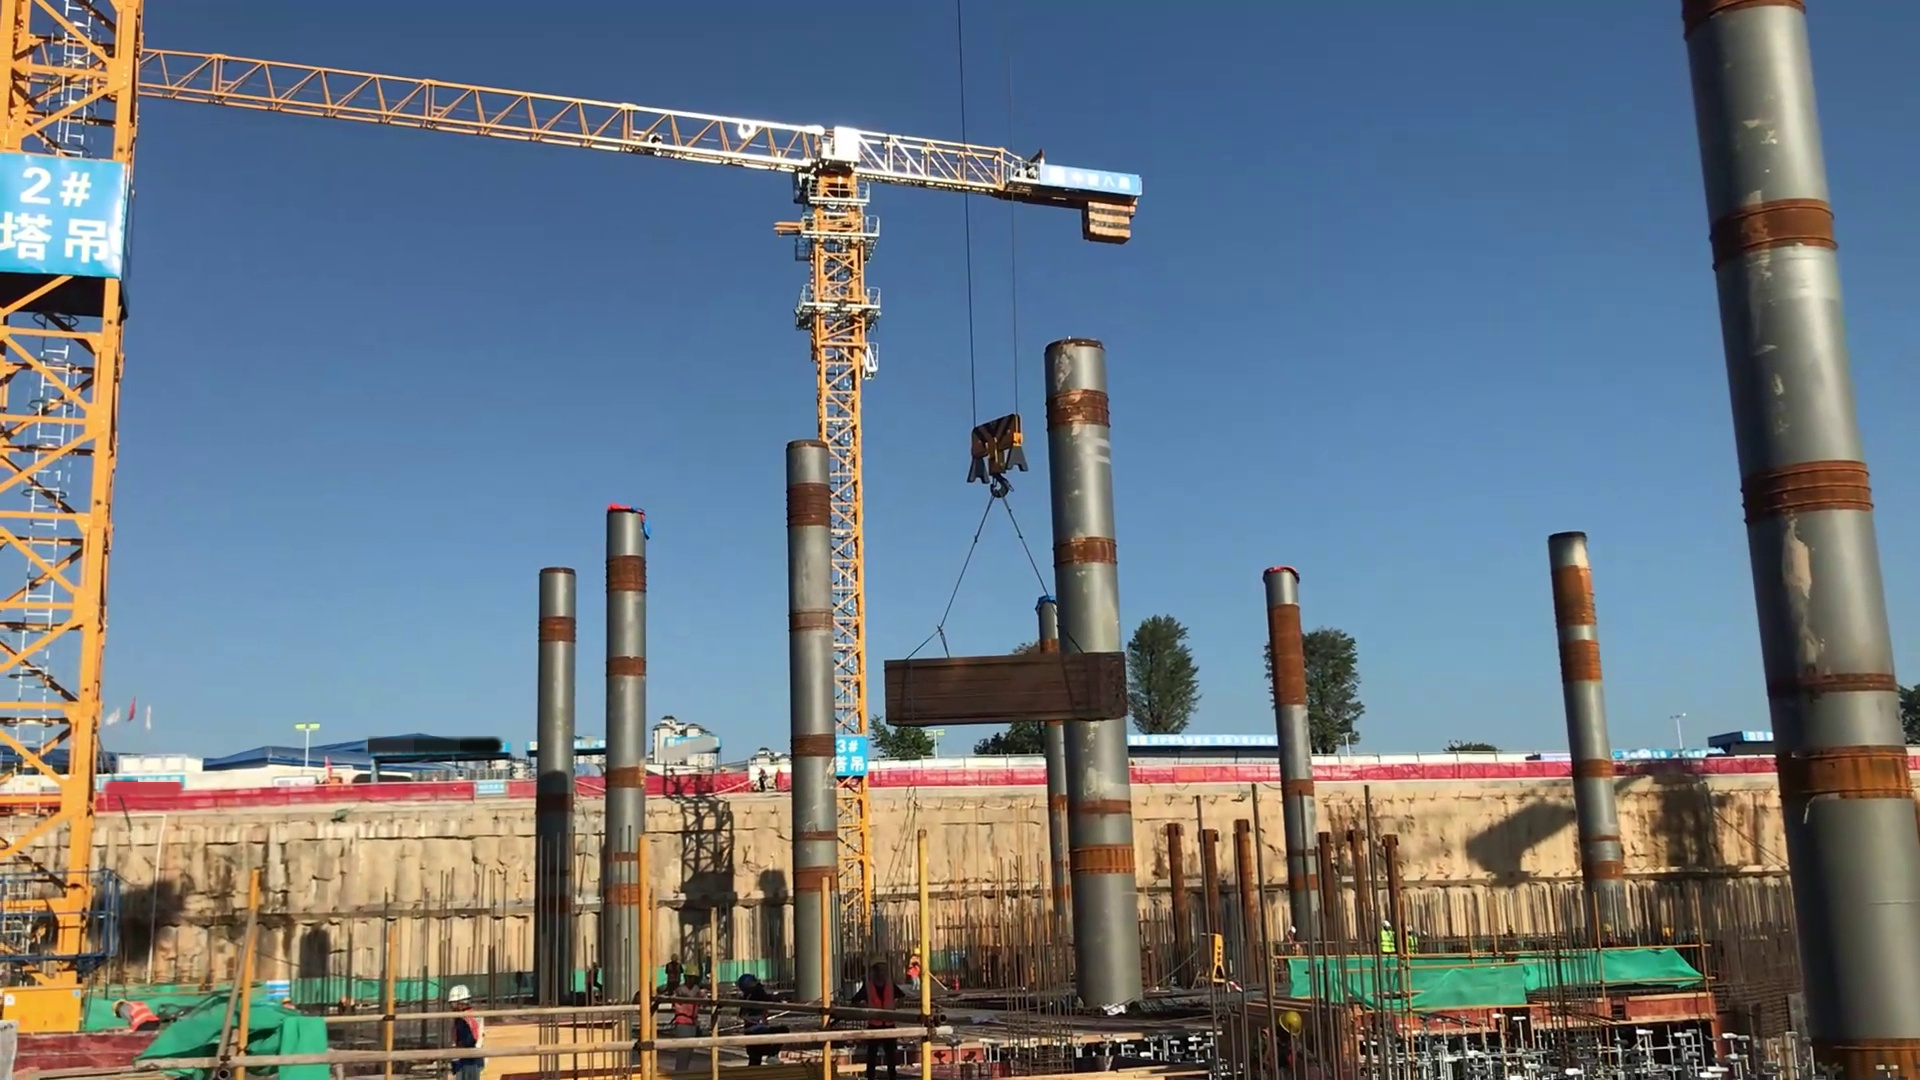ebox: (1187, 924, 1233, 984)
helmet: (1276, 1001, 1308, 1037), (677, 956, 715, 981), (447, 973, 475, 1000), (100, 993, 127, 1016), (1283, 919, 1300, 943), (1379, 917, 1386, 928)
hook: (963, 415, 1032, 476)
person: (655, 946, 709, 1070), (855, 961, 904, 1072), (436, 983, 493, 1080), (735, 968, 781, 1068), (104, 992, 173, 1035)
vest: (447, 1013, 487, 1061), (865, 976, 900, 1031), (125, 1000, 162, 1031), (674, 987, 703, 1025), (1400, 932, 1423, 961), (1382, 929, 1395, 955)
wood: (866, 637, 1166, 746)
